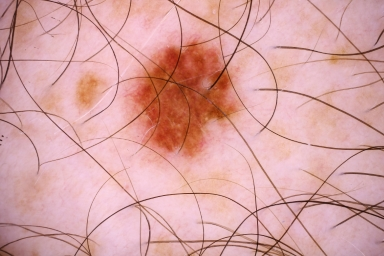nevus: (130, 41, 239, 157)
